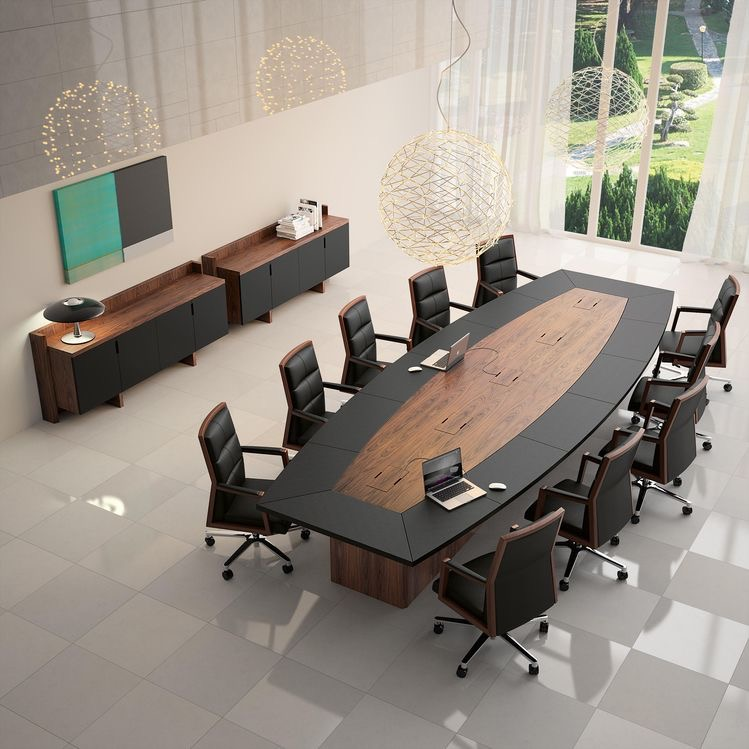conference_table: (256, 268, 676, 609)
